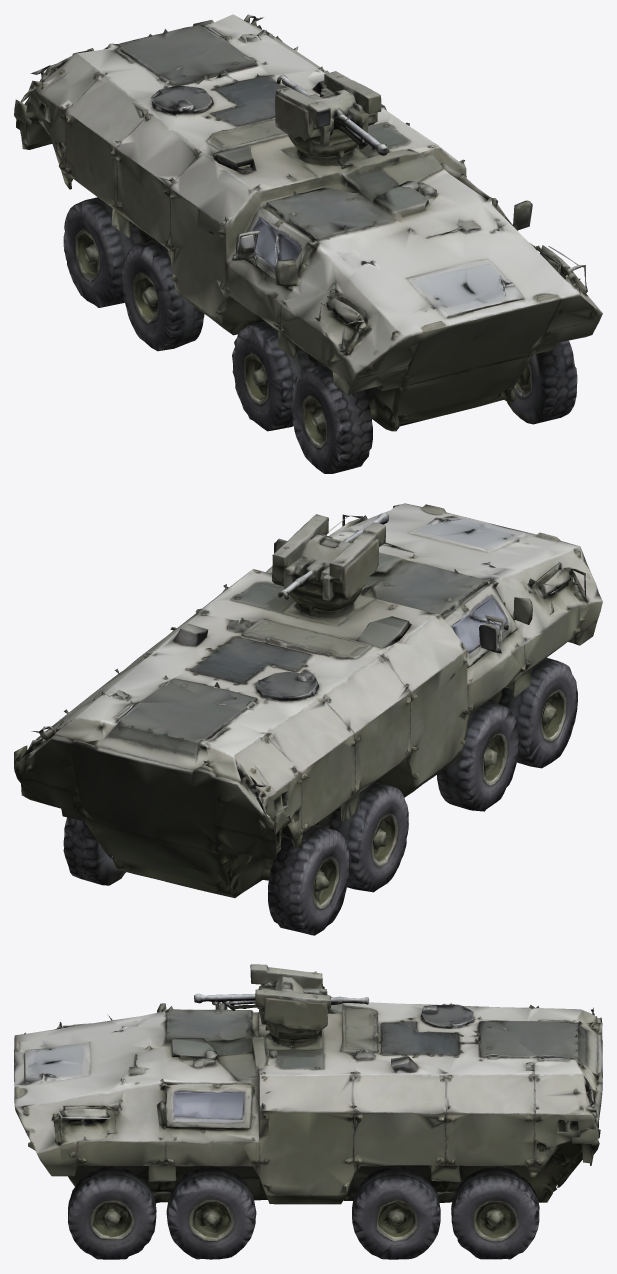
File: armor-m1126-stryker.glb
The picture shows the model from 3 angles, top to bottom: view 1: azimuth 30°, elevation 25°; view 2: azimuth 150°, elevation 25°; view 3: azimuth 270°, elevation 25°; orthographic projection. The views are drawn at different scales.
Visible parts, largest first — view 1: Hull, Turret, Gun; view 2: Hull, Turret; view 3: Hull, Turret, Gun.
Part boxes in pixels (x1,y1,x2,y2): Hull: (14, 14, 602, 473); Turret: (275, 71, 381, 165); Gun: (344, 119, 388, 155); Hull: (14, 503, 602, 935); Turret: (272, 514, 385, 617); Hull: (14, 994, 602, 1259); Turret: (250, 964, 369, 1046); Gun: (194, 993, 256, 1010).
Bounding box in the file's own units: 0.4393 × 0.4367 × 0.9995.
1 material, 1 textured.
